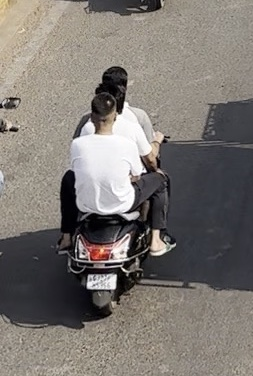BikeWithRider: (57, 61, 183, 322)
NoHelmet: (87, 92, 119, 136), (93, 78, 127, 109), (98, 65, 133, 95)
